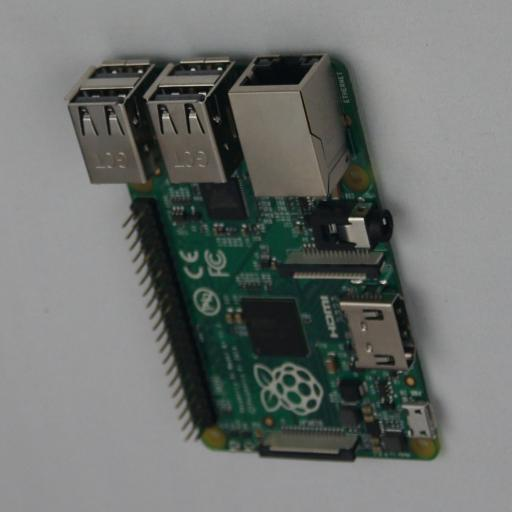Raspberry Pi 1 B-: (68, 50, 442, 462)
